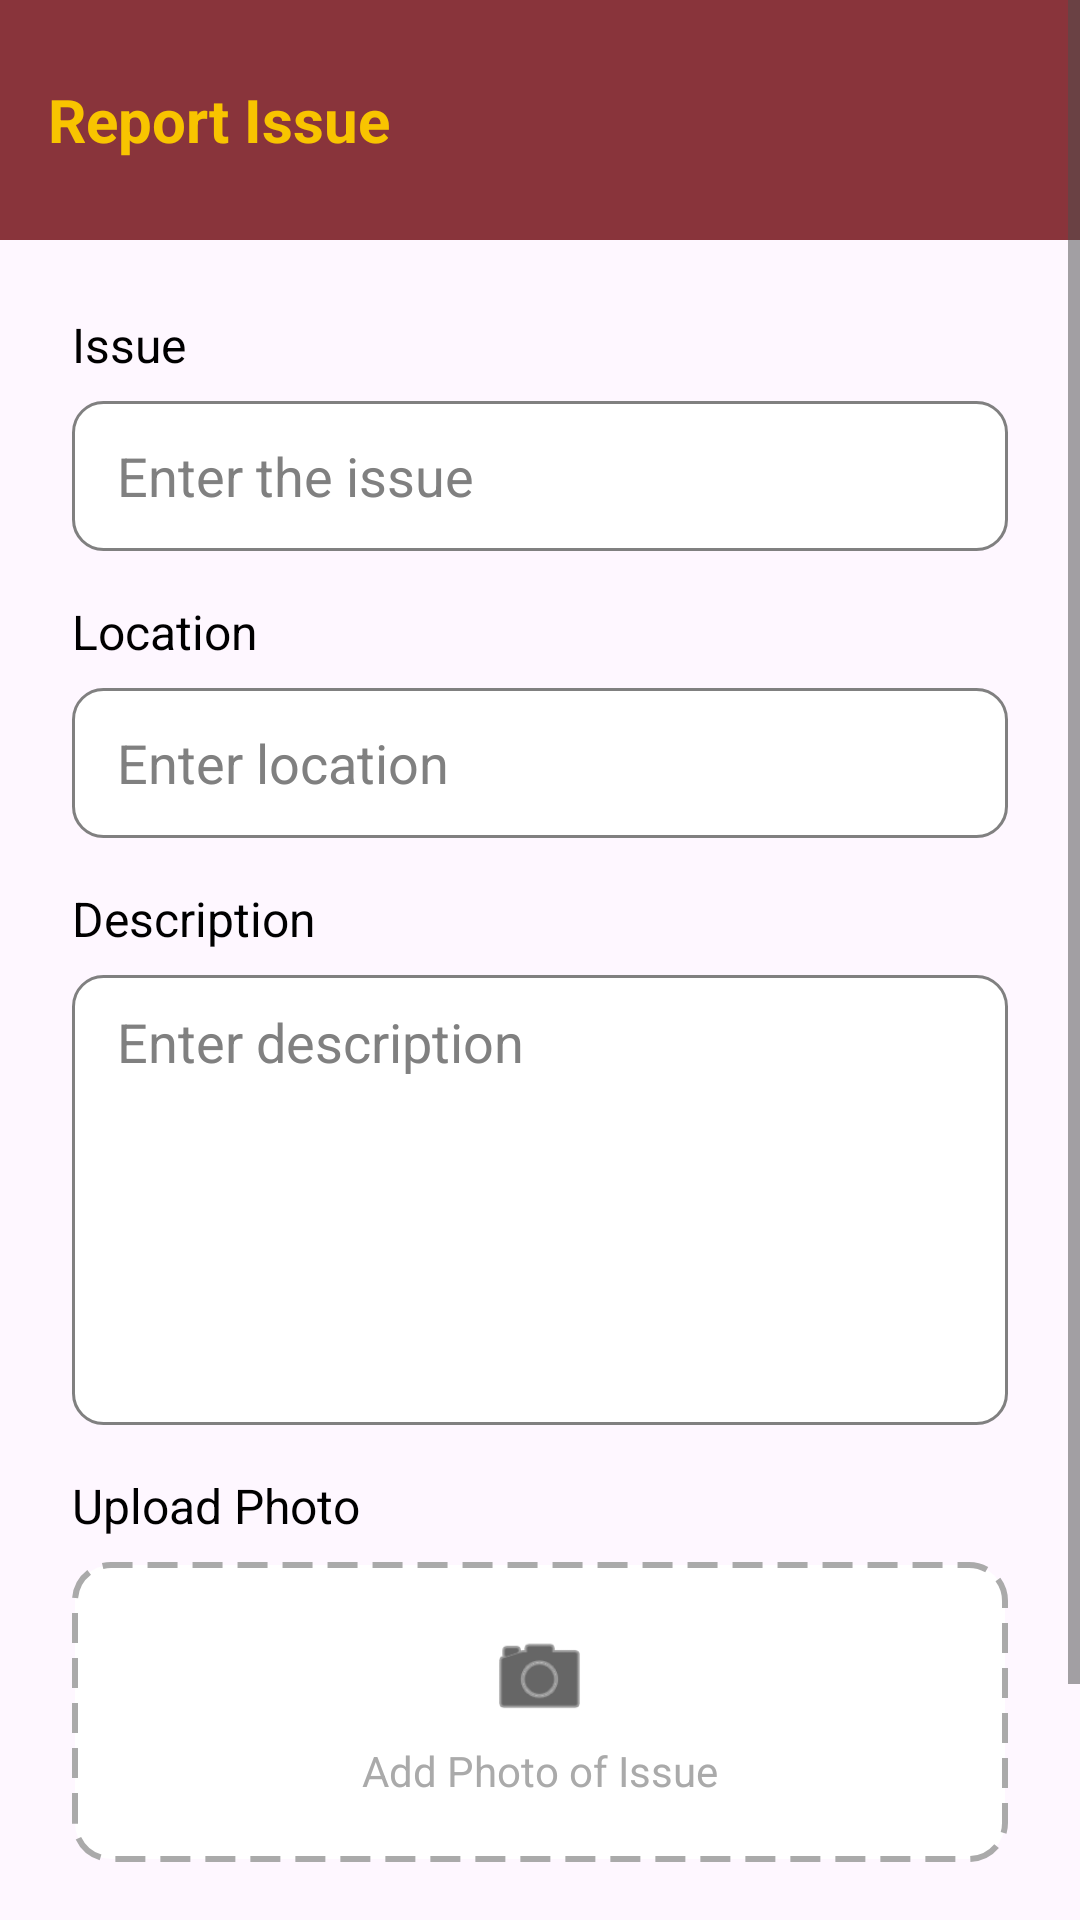

Named icons in this screenshot (1080 × 1920) and their bounding boxes, box=[x1, y1, x2, y2]:
camera: box=[499, 1643, 580, 1708]
